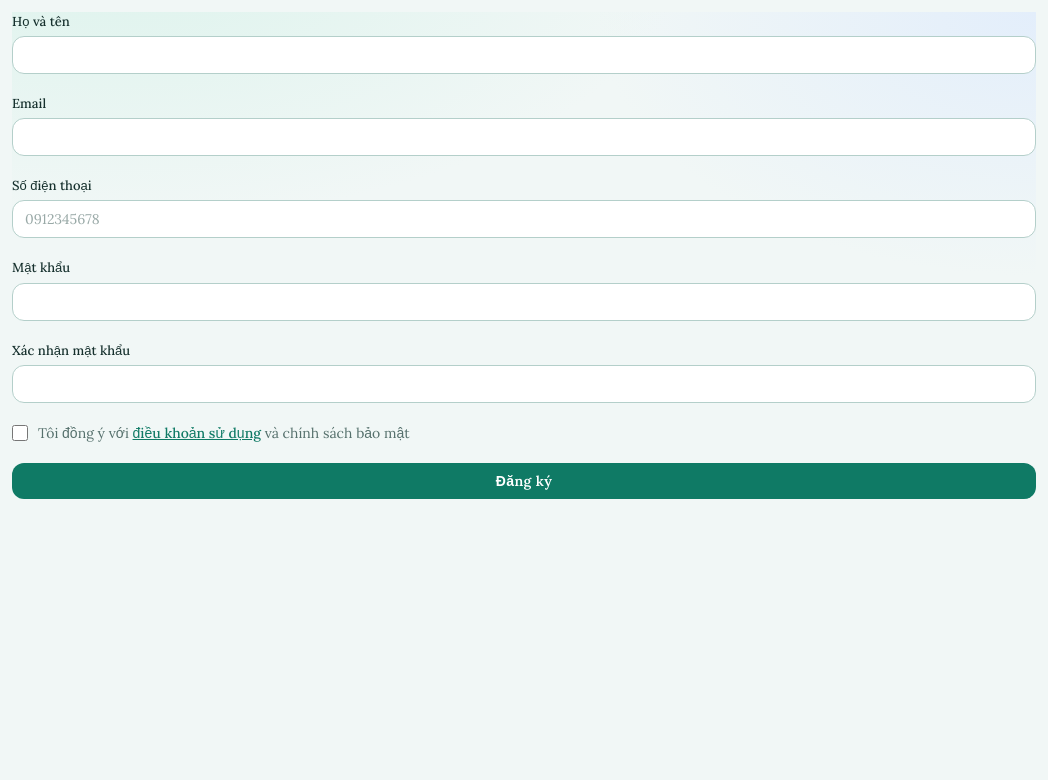
RegisterForm › lỗi validate phía client, không gọi API
This screenshot has width=1048, height=780.
Type "Nguyen Van A" into the field labelled "Họ và tên" at coordinates (524, 55), box [12, 36, 1036, 74]
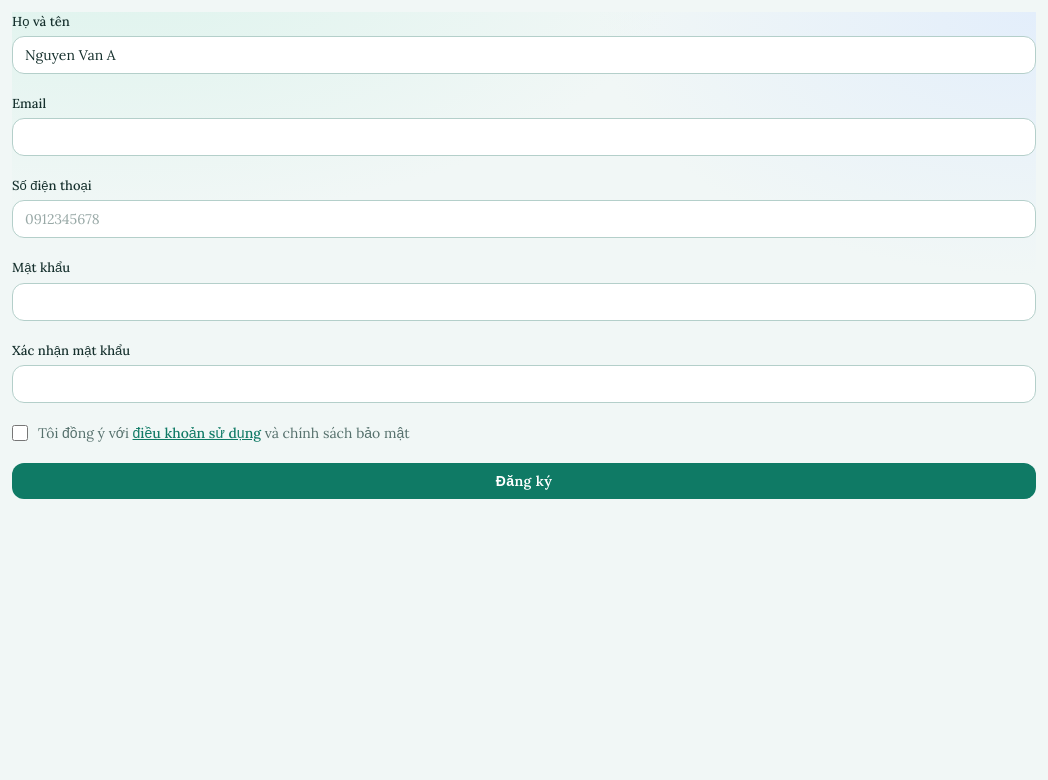
Type "a@b.co" into the field labelled "Email" at coordinates (524, 137), box [12, 118, 1036, 156]
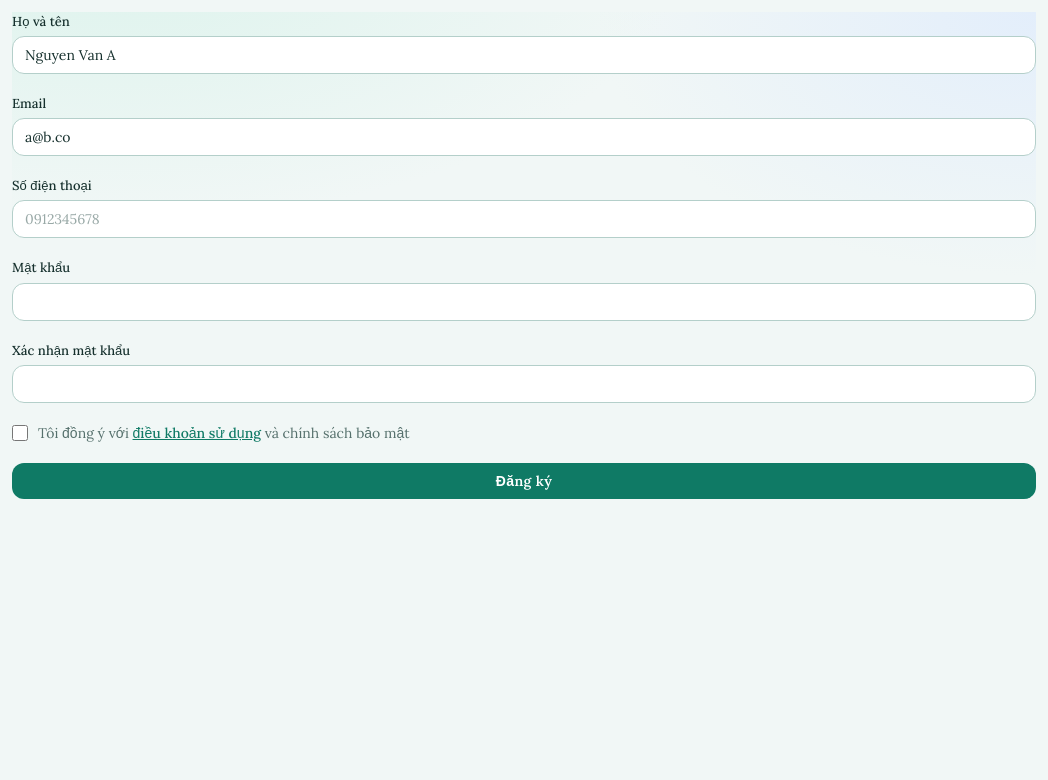
Type "123" into the field labelled "Số điện thoại" at coordinates (524, 219), box [12, 200, 1036, 238]
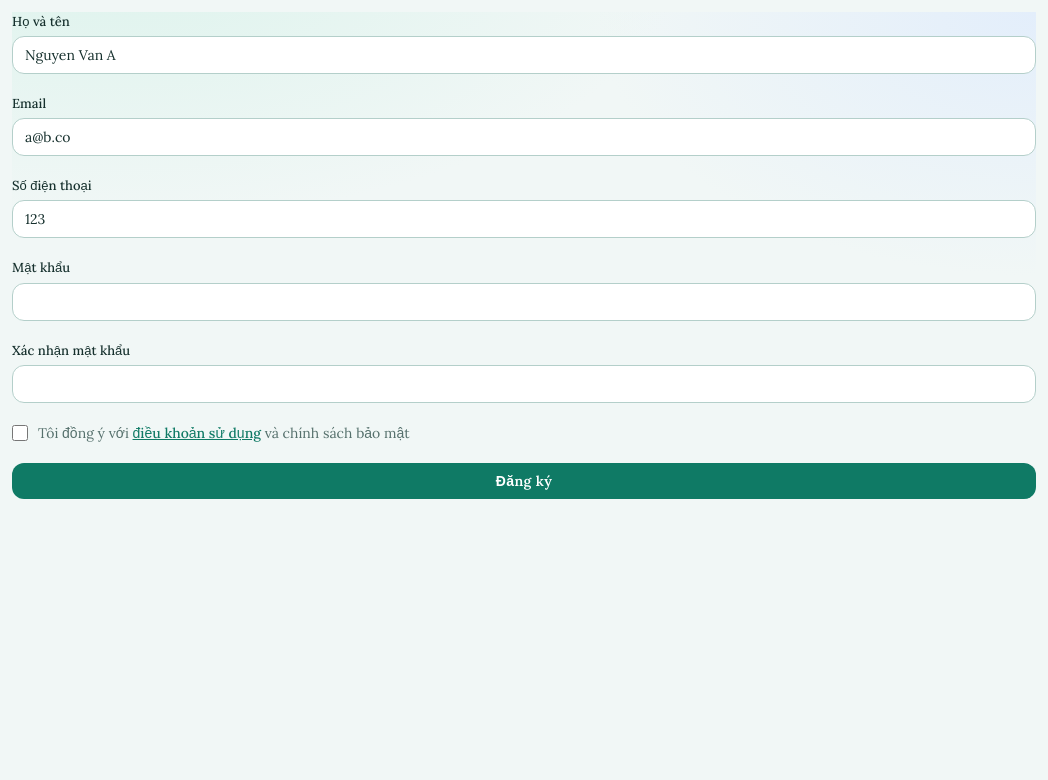
Type "123456" into the password field labelled "Mật khẩu" at coordinates (524, 302), box [12, 283, 1036, 321]
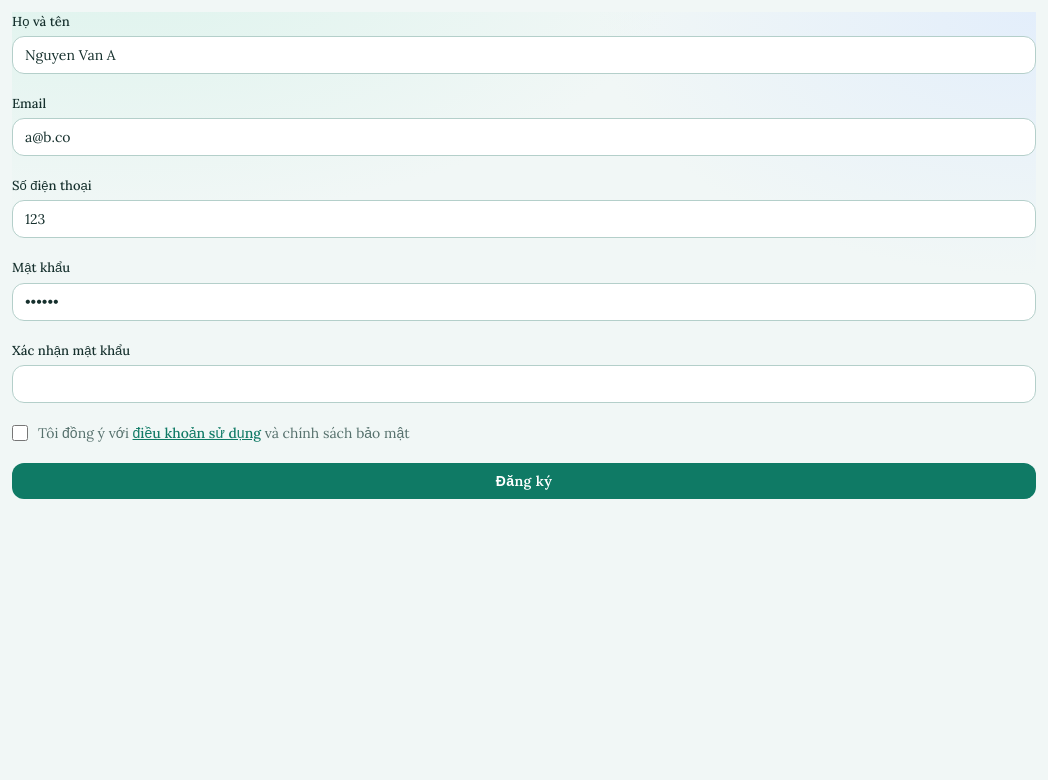
Type "zzzzzz" into the password field labelled "Xác nhận mật khẩu" at coordinates (524, 384), box [12, 365, 1036, 403]
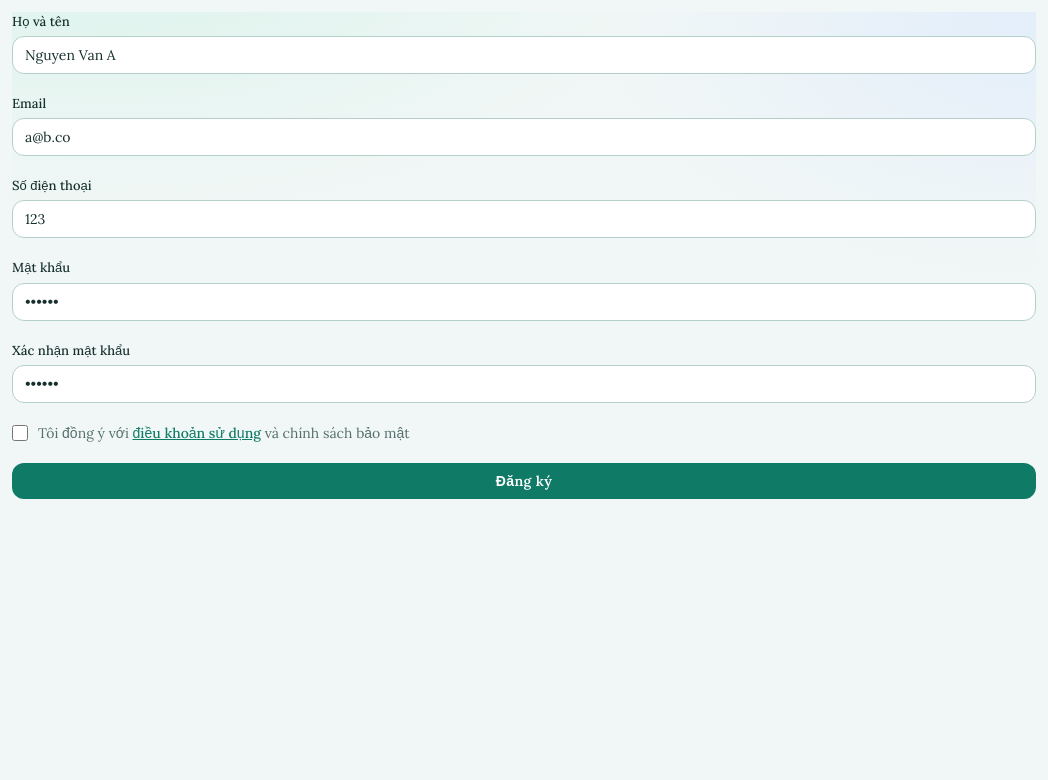
Click the button "Đăng ký" at coordinates (524, 481), box [12, 463, 1036, 499]
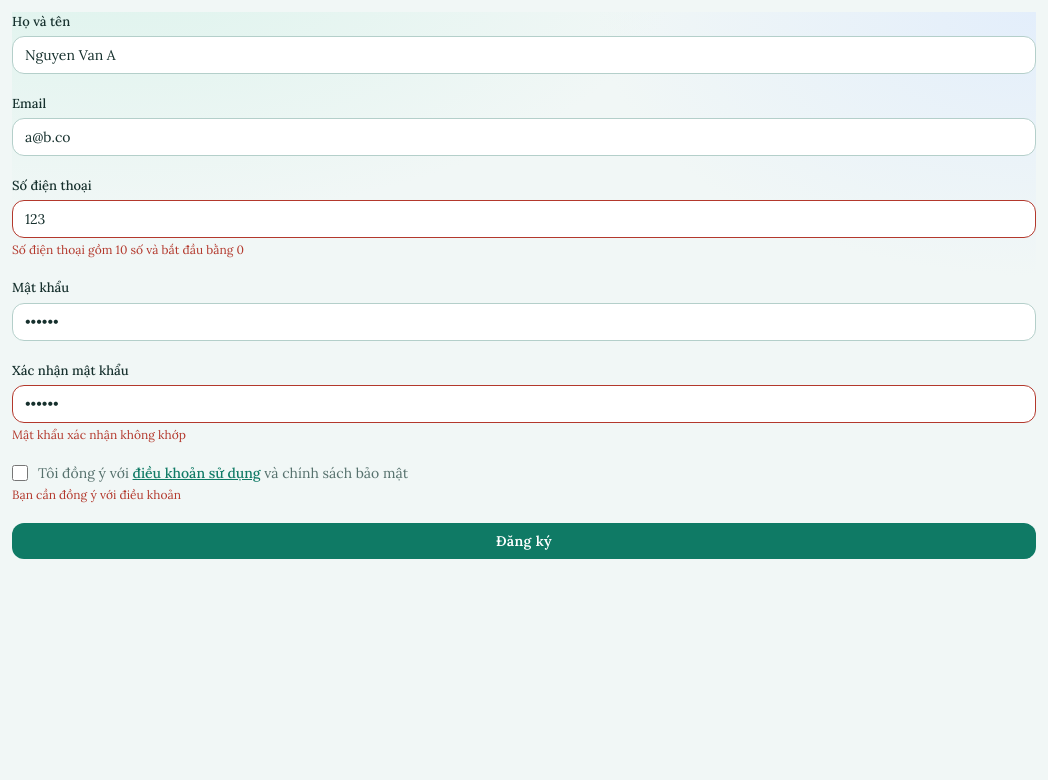
expect the text "Số điện thoại gồm 10 số và bắt đầu bằng 0" is shown: met, box [12, 242, 244, 257]
expect the text "Mật khẩu xác nhận không khớp" is shown: met, box [12, 427, 186, 442]
expect the text "Bạn cần đồng ý với điều khoản" is shown: met, box [12, 487, 181, 502]
